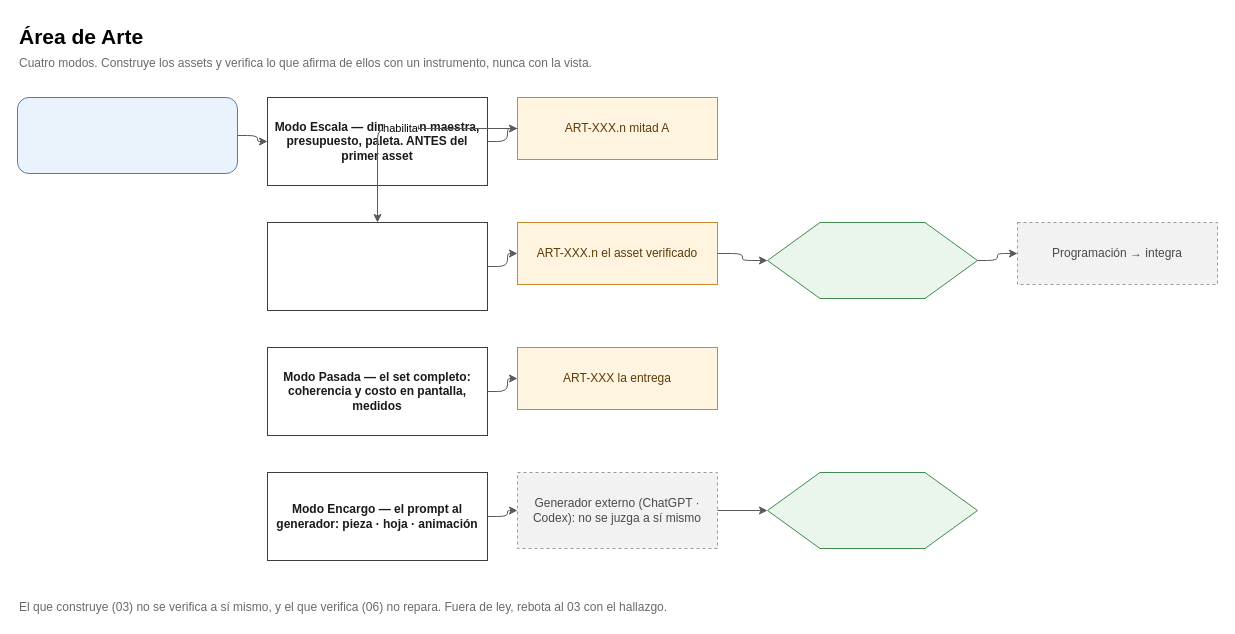
The diagram is 1235 pixels wide and 634 high, and some of its shapes have lost their labels. The shapes that lost their labels are listed below. From the top down, each one's box as (x1, y1, x2, y2) in pixels, then its label:
(16, 96, 238, 174): LDS + GDS cerrados · la dirección de arte del owner
(266, 222, 488, 310): Modo Producción — 02 → 03 → 06 → (04 · 05) → 06 → (07)
(766, 222, 978, 298): arte.py — malla · presupuesto · paleta · entrega
(766, 472, 978, 548): animacion.py — cuadros · alfa · pivot · loop · GIF
